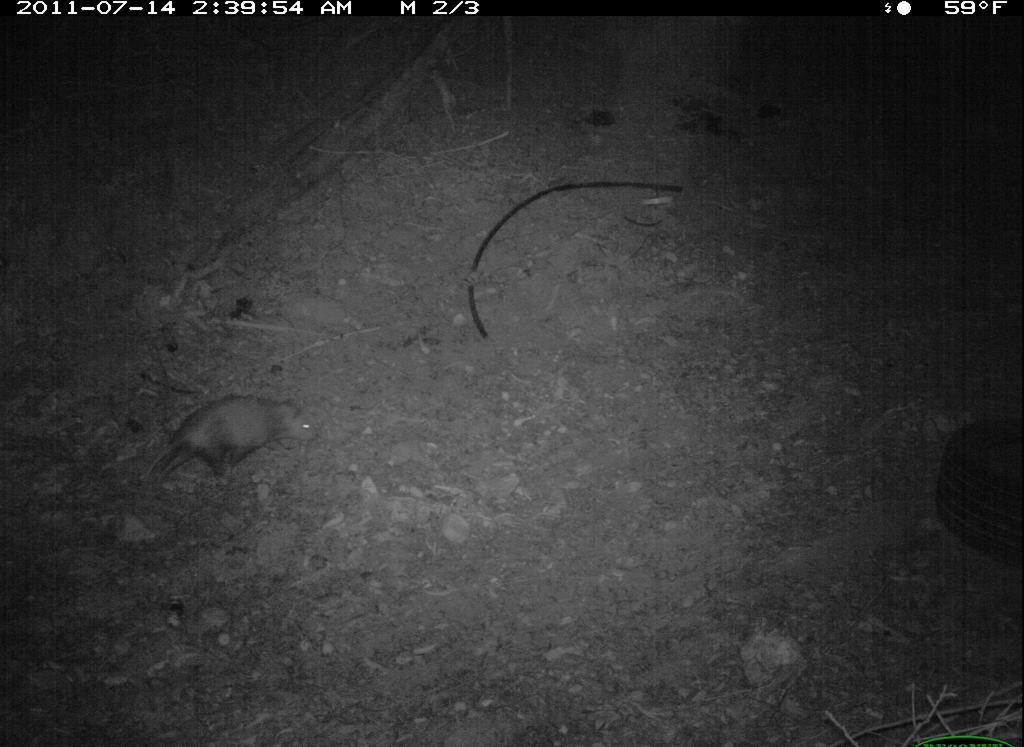opossum: (139, 383, 324, 491)
